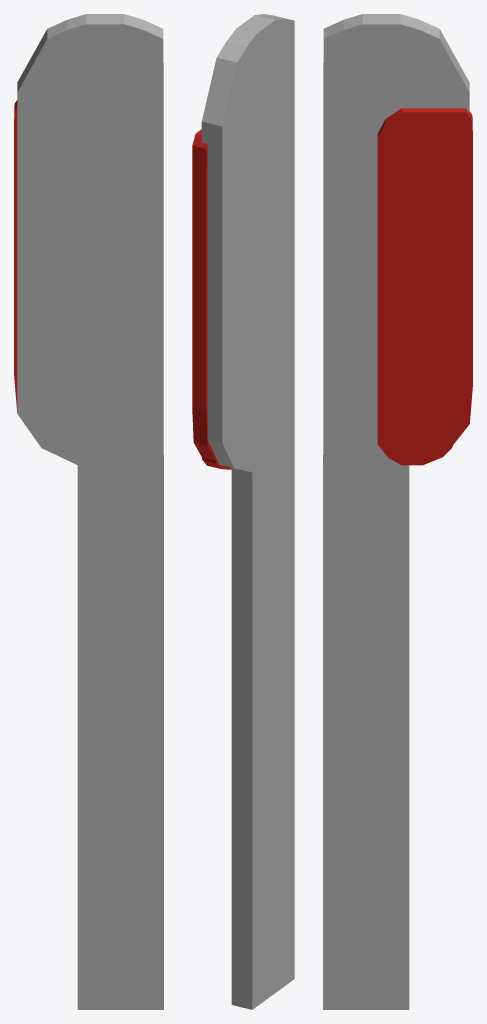
The model's file is Knife.fbx.
3 views of the same model, side by side, from view 1: azimuth 90°, elevation 25°; view 2: azimuth 150°, elevation 25°; view 3: azimuth 270°, elevation 25° (orthographic).
Parts seen in each view (by area): view 1: Knife, Jelly; view 2: Knife, Jelly; view 3: Knife, Jelly.
Part boxes in pixels (box(x1,y1,x2,y2)): Knife: box(17, 14, 163, 1009); Jelly: box(14, 100, 17, 412); Knife: box(201, 14, 294, 1009); Jelly: box(192, 129, 232, 469); Knife: box(323, 14, 469, 1009); Jelly: box(377, 108, 472, 465).
Bounding box in the file's own units: 5.85 × 189 × 25.98.
